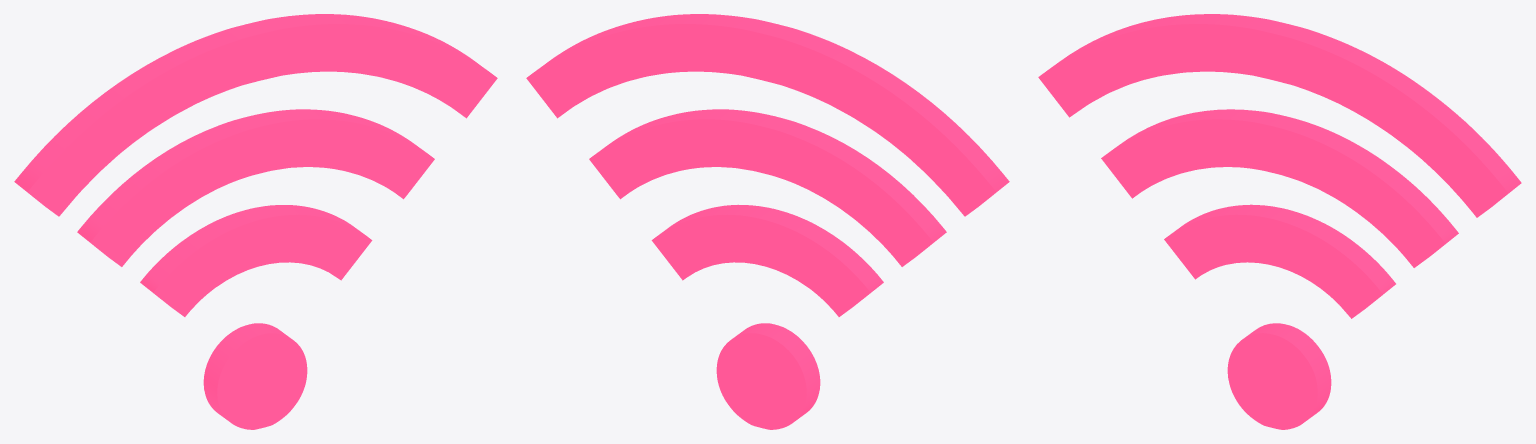
The model's file is Wifi.fbx.
3 renders of one model, left to right at view 1: azimuth 30°, elevation 25°; view 2: azimuth 150°, elevation 25°; view 3: azimuth 330°, elevation 25°, orthographic.
Parts seen in each view (by area): view 1: Curve_path21.001; view 2: Curve_path21.001; view 3: Curve_path21.001.
Boxes of the visible parts, <box> form: Curve_path21.001: <box>14,14,497,429</box>; Curve_path21.001: <box>526,14,1009,429</box>; Curve_path21.001: <box>1038,14,1521,429</box>.
Bounding box in the file's own units: 120 × 95.9 × 6.
